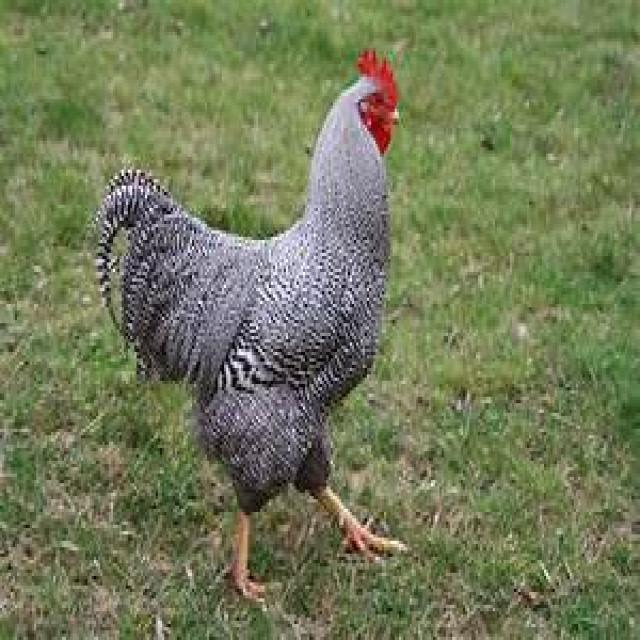hen: (90, 48, 407, 602)
